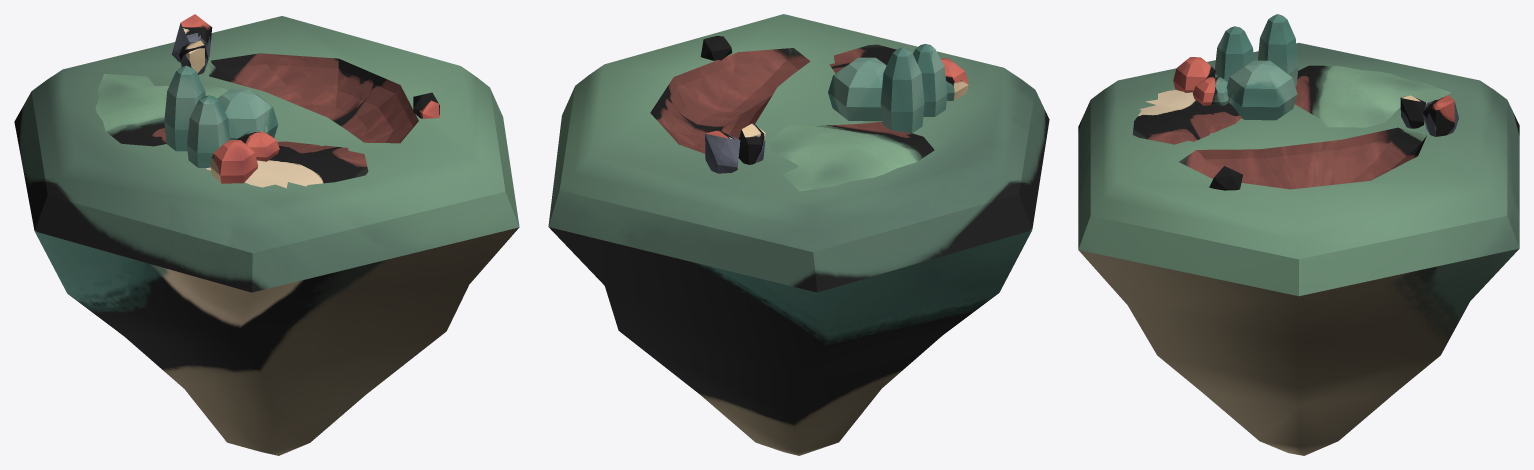
File: islet_2.fbx
3 renders of one model, left to right at view 1: azimuth 30°, elevation 25°; view 2: azimuth 150°, elevation 25°; view 3: azimuth 270°, elevation 25°, orthographic. The views are drawn at different scales.
Visible parts, largest first — view 1: polySurface552; view 2: polySurface552; view 3: polySurface552.
Part boxes in pixels (x1,y1,x2,y2): polySurface552: (14,14,519,455); polySurface552: (548,14,1049,455); polySurface552: (1078,14,1519,455).
Bounding box in the file's own units: 11.53 × 9.84 × 9.99.
